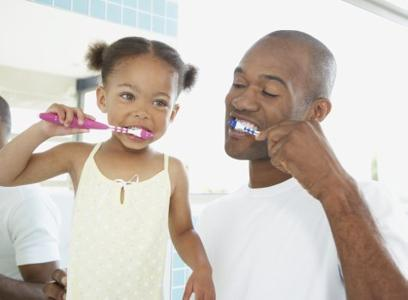person: (185, 31, 407, 300)
